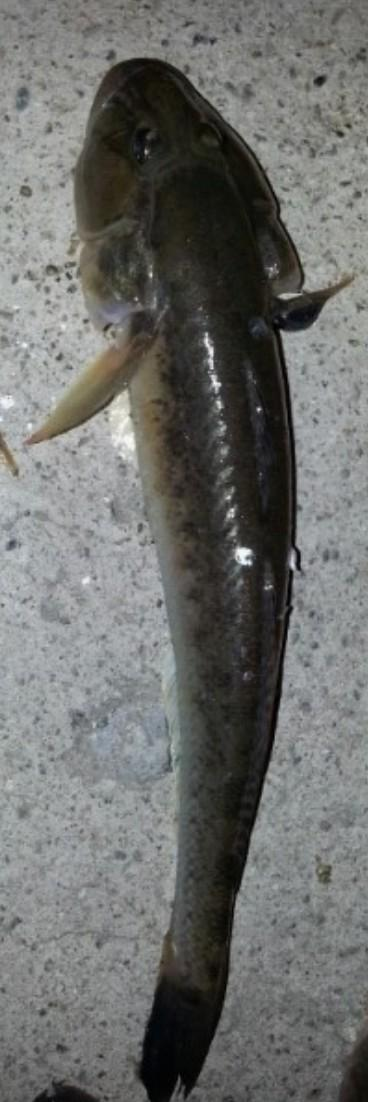fish: (27, 59, 351, 1101)
